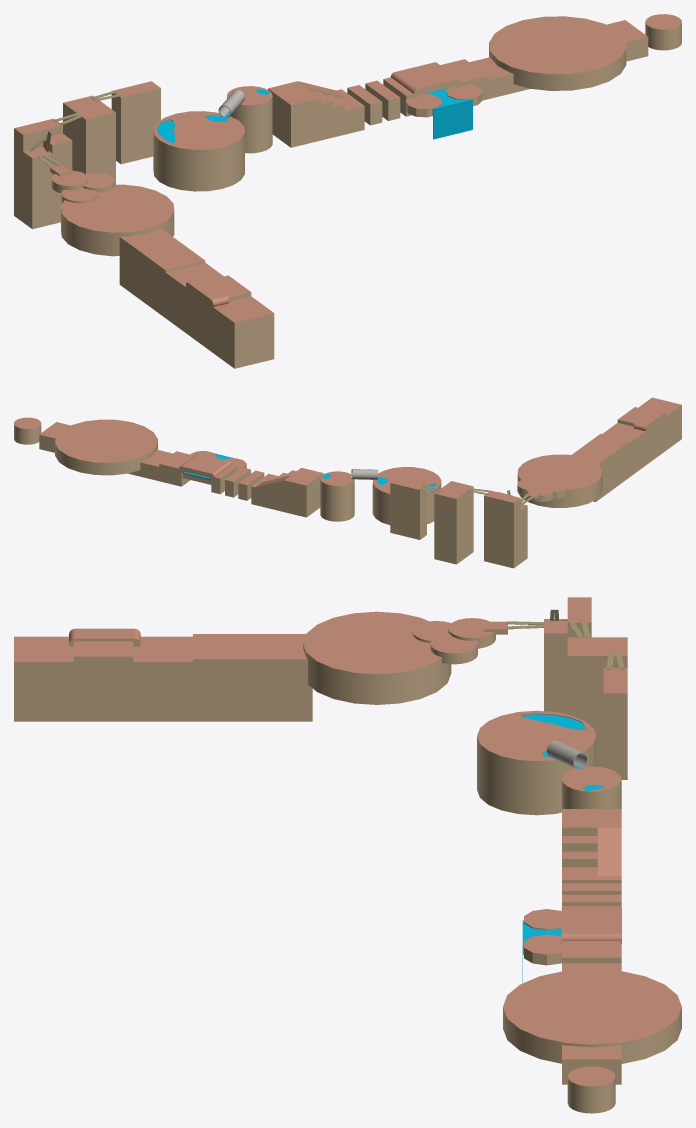
File: SM_Land_Lvl2.fbx
The picture shows the model from 3 angles, top to bottom: view 1: azimuth 30°, elevation 25°; view 2: azimuth 150°, elevation 25°; view 3: azimuth 270°, elevation 25°; orthographic projection. The views are drawn at different scales.
Parts seen in each view (by area): view 1: polySurface289; view 2: polySurface289; view 3: polySurface289.
Part boxes in pixels (<box>): polySurface289: <box>14,14,681,368</box>; polySurface289: <box>14,397,681,568</box>; polySurface289: <box>14,597,681,1113</box>.
Size of the model in its own units: 174 by 21.3 by 112.
